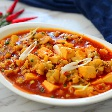mapodoufu: (1, 27, 112, 97)
